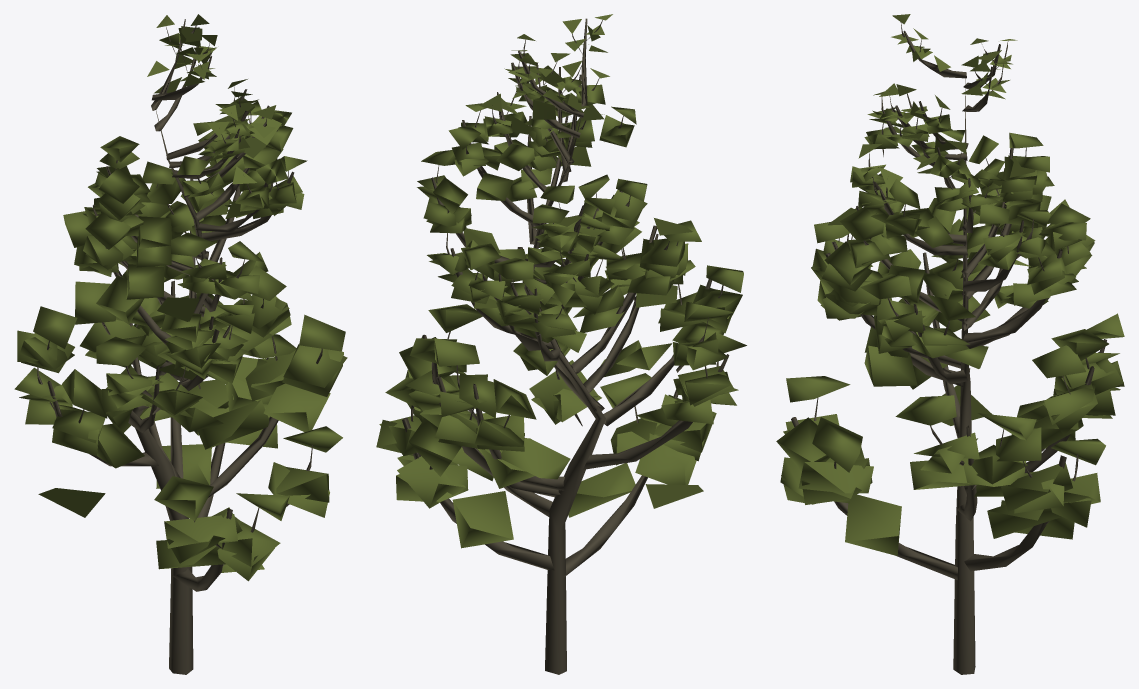
The model's file is Tree_BlackWillow_006.fbx.
3 views of the same model, side by side, from view 1: azimuth 30°, elevation 25°; view 2: azimuth 150°, elevation 25°; view 3: azimuth 270°, elevation 25° (orthographic).
Parts seen in each view (by area): view 1: Tree_BlackWillow.006; view 2: Tree_BlackWillow.006; view 3: Tree_BlackWillow.006.
Boxes of the visible parts, box(x1,y1,x2,y2) form: Tree_BlackWillow.006: box(14, 14, 347, 674); Tree_BlackWillow.006: box(376, 14, 746, 674); Tree_BlackWillow.006: box(776, 14, 1124, 674).
Bounding box in the file's own units: 1392 × 2617 × 1281.
